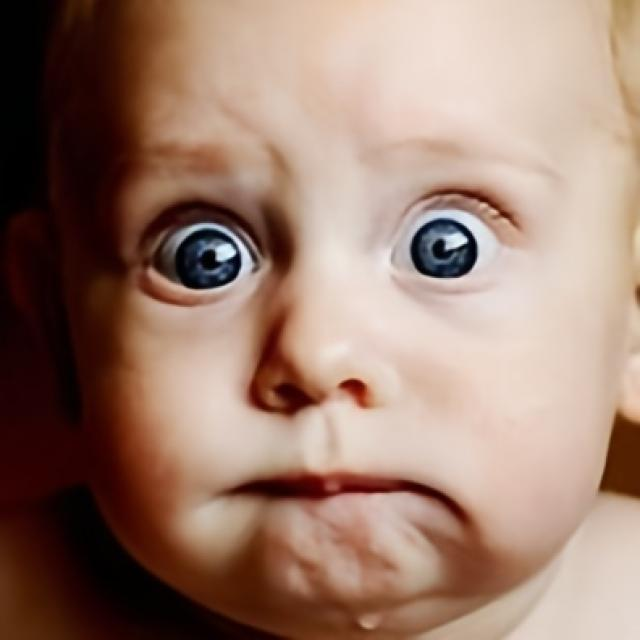fear: (42, 0, 620, 640)
